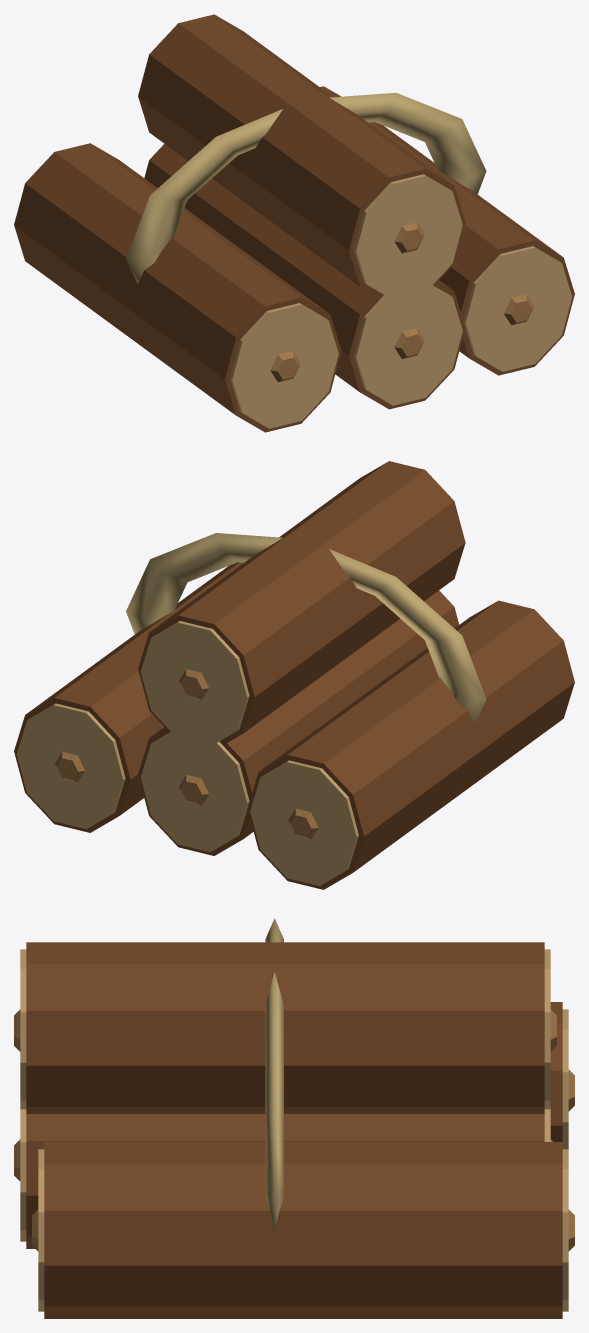
Rendered from pile-wood-4.gltf.
3 views of the same model, one above another, from view 1: azimuth 30°, elevation 25°; view 2: azimuth 150°, elevation 25°; view 3: azimuth 270°, elevation 25° (orthographic). The views are drawn at different scales.
Visible parts, largest first — view 1: pile-wood-4; view 2: pile-wood-4; view 3: pile-wood-4.
Boxes of the visible parts, x1,y1,x2,y2 form: pile-wood-4: (14,14,574,432); pile-wood-4: (14,461,574,889); pile-wood-4: (14,918,574,1318).
Size of the model in its own units: 0.7107 by 0.4368 by 0.779.
